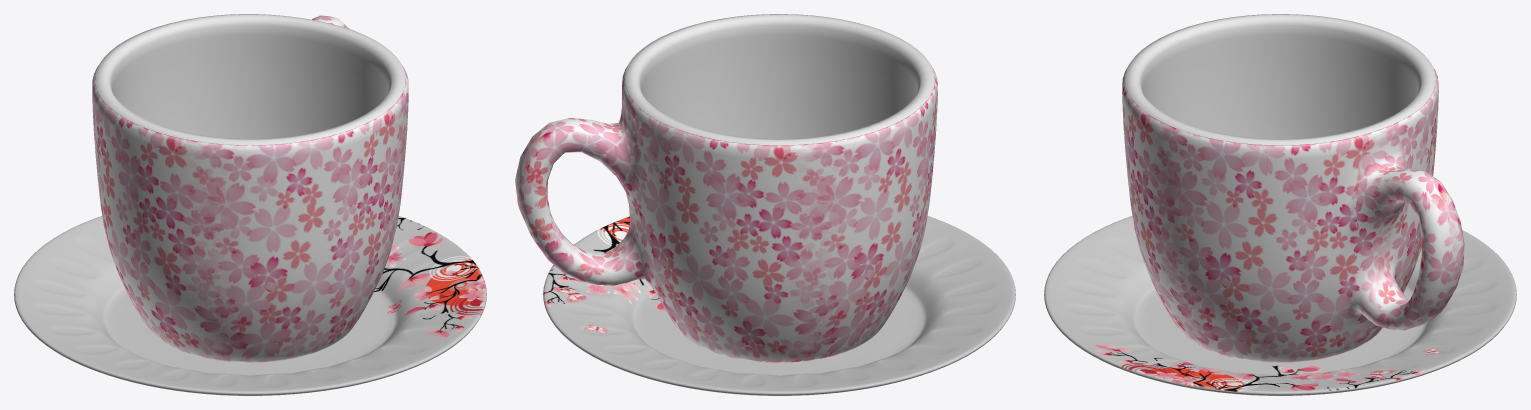
3 views of the same model, side by side, from view 1: azimuth 30°, elevation 25°; view 2: azimuth 150°, elevation 25°; view 3: azimuth 270°, elevation 25° (orthographic).
Visible parts, largest first — view 1: Circle.001, Circle; view 2: Circle.001, Circle; view 3: Circle.001, Circle.
Part boxes in pixels (x1=…): Circle.001: x1=92, y1=14, x2=408, y2=362; Circle: x1=14, y1=216, x2=486, y2=395; Circle.001: x1=515, y1=14, x2=937, y2=362; Circle: x1=543, y1=216, x2=1015, y2=395; Circle.001: x1=1122, y1=14, x2=1464, y2=362; Circle: x1=1044, y1=216, x2=1516, y2=395.
Size of the model in its own units: 0.2181 by 0.1243 by 0.2181.
3 materials, 2 textured.
